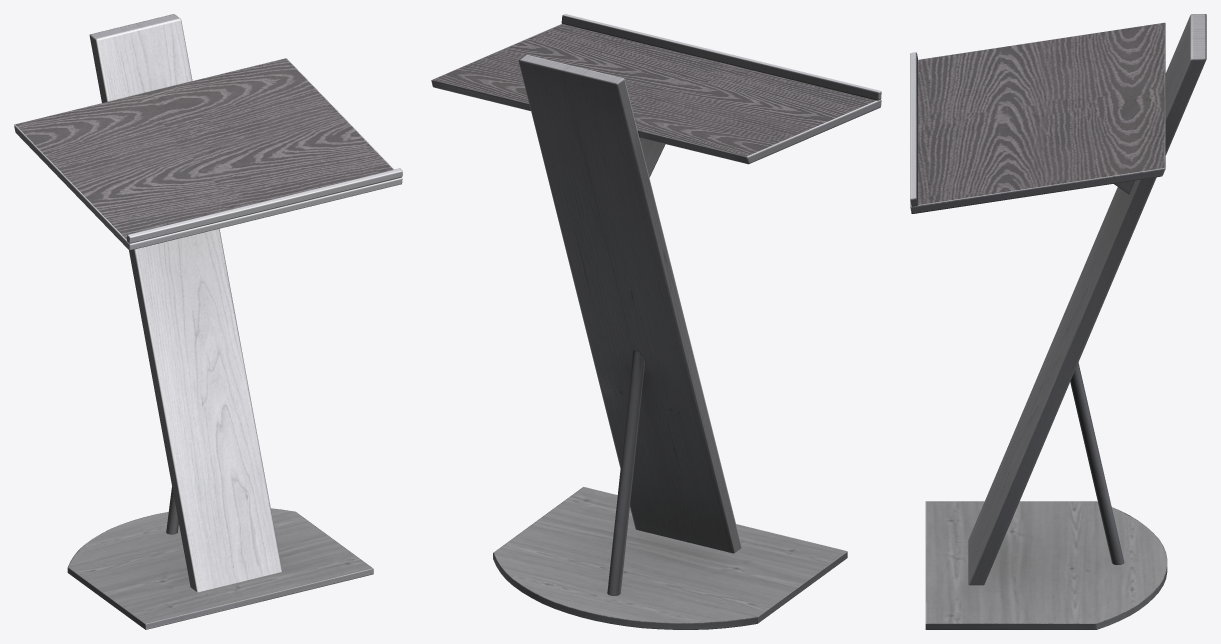
Rendered from lectern.glb.
3 views of the same model, side by side, from view 1: azimuth 30°, elevation 25°; view 2: azimuth 150°, elevation 25°; view 3: azimuth 270°, elevation 25° (orthographic). The views are drawn at different scales.
Parts seen in each view (by area): view 1: lectern-silver; view 2: lectern-silver; view 3: lectern-silver.
Boxes of the visible parts, x1=… form: lectern-silver: x1=14, y1=14, x2=402, y2=629; lectern-silver: x1=431, y1=14, x2=881, y2=629; lectern-silver: x1=910, y1=14, x2=1206, y2=629.
Size of the model in its own units: 0.7805 by 1.32 by 0.6679.
1 material, 1 textured.
